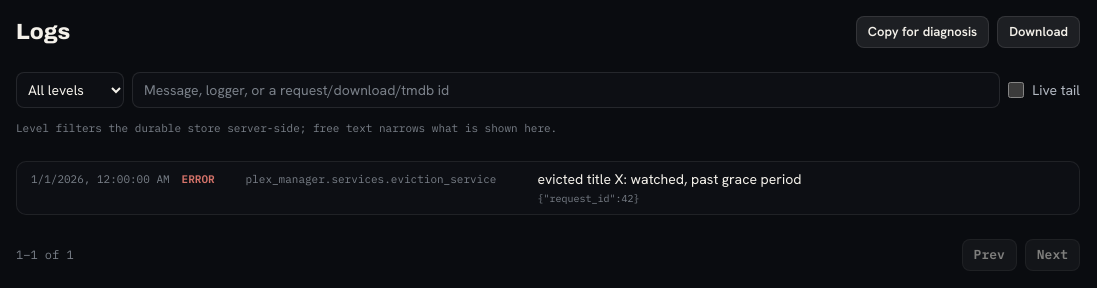
Scenario: Logs › keeps live tail all-level, page-locally searchable, and reports dropped durable records
The width and height of the screenshot is (1097, 288).
Click the checkbox labelled "Live tail" at (1016, 90), box [1008,82,1024,98]
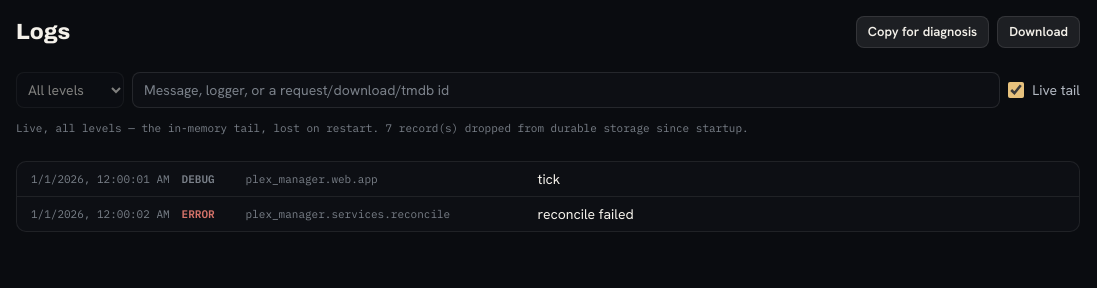
Result: the text "7 record(s) dropped from durable storage since startup" is shown at [16,121,749,135]
Result: the text "tick" is shown at [538,170,560,188]
Result: the text "reconcile failed" is shown at [538,204,634,222]
Type "reconcile" into the field named "Search" at (566, 90), box [132,72,1000,108]
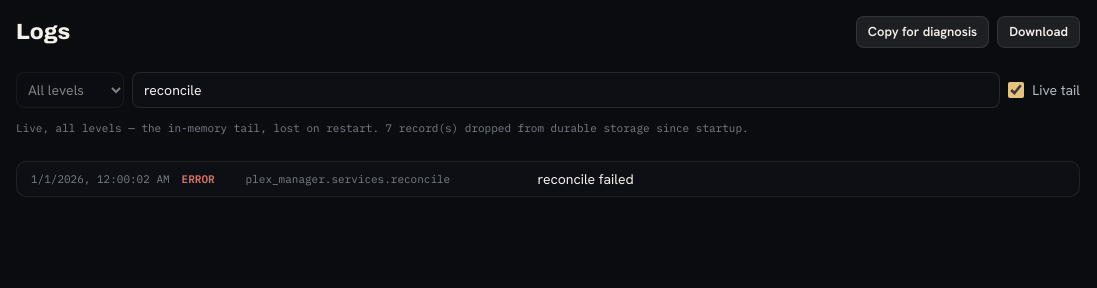
Result: the text "reconcile failed" is shown at [538,170,634,188]
Result: the text "tick" is gone
